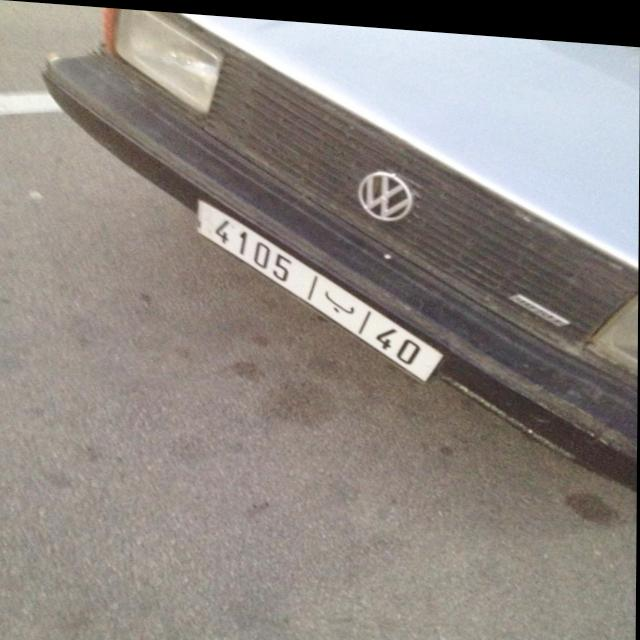License-Plate: (199, 198, 443, 373)
